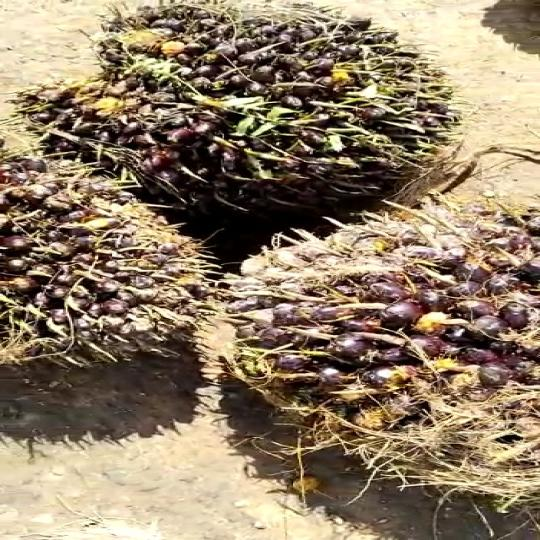kurang masak: (201, 197, 540, 519), (31, 0, 452, 218), (0, 150, 224, 388)
